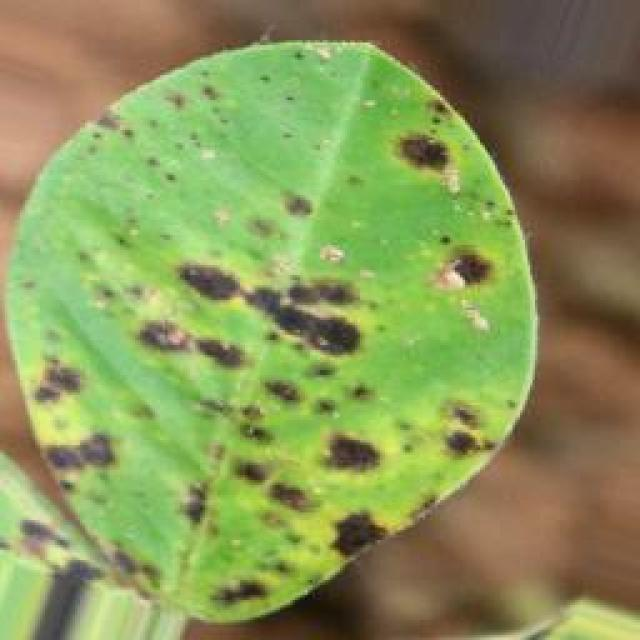Yellowish: (24, 42, 516, 609)
